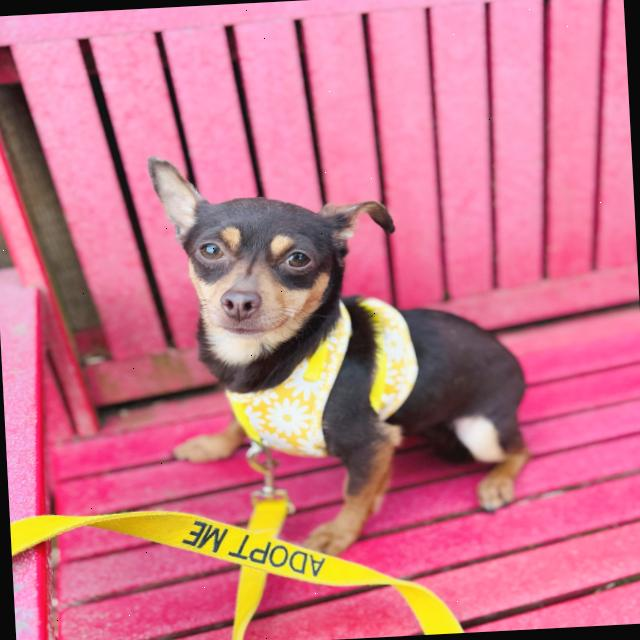chihuahua_dog: (117, 138, 419, 370)
